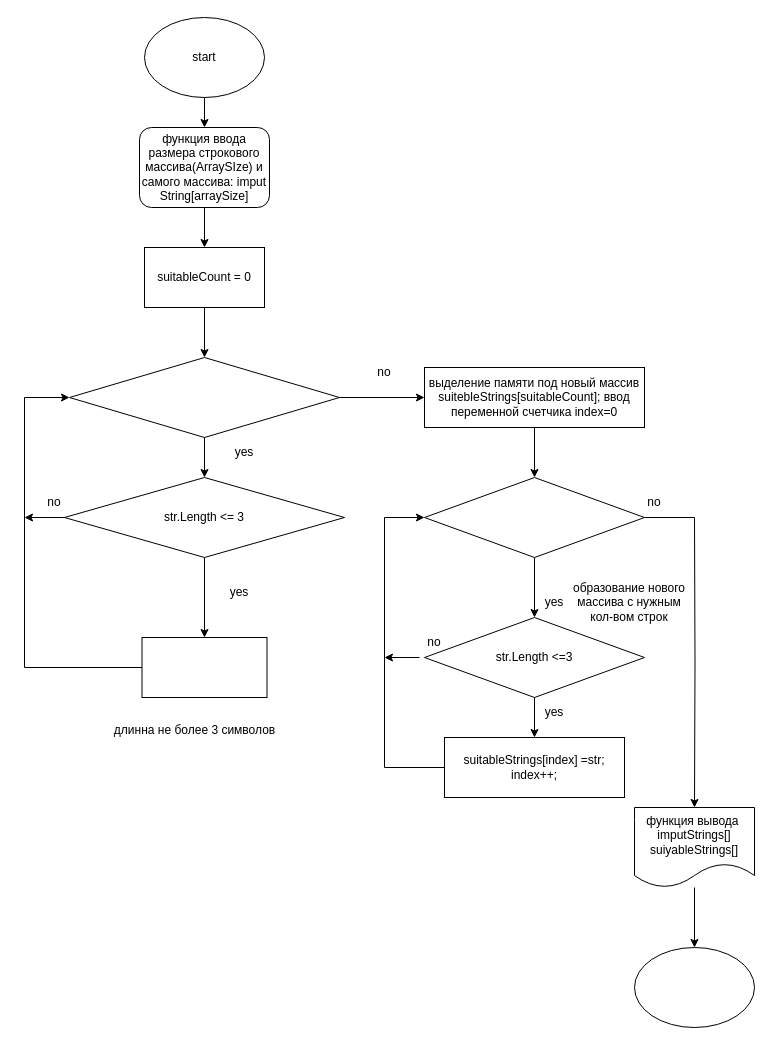
Some shapes in this 772 by 1045 pixel diagram are drawn without their labels. The centre of each missing label's shape, as x and y in pixels:
(Цикл Foreach) str in inputStrings: point 534,517
(цикл foreachj) sit in inputStrings: point 204,397
end: point 694,987
suitableCount ++: point 204,667
